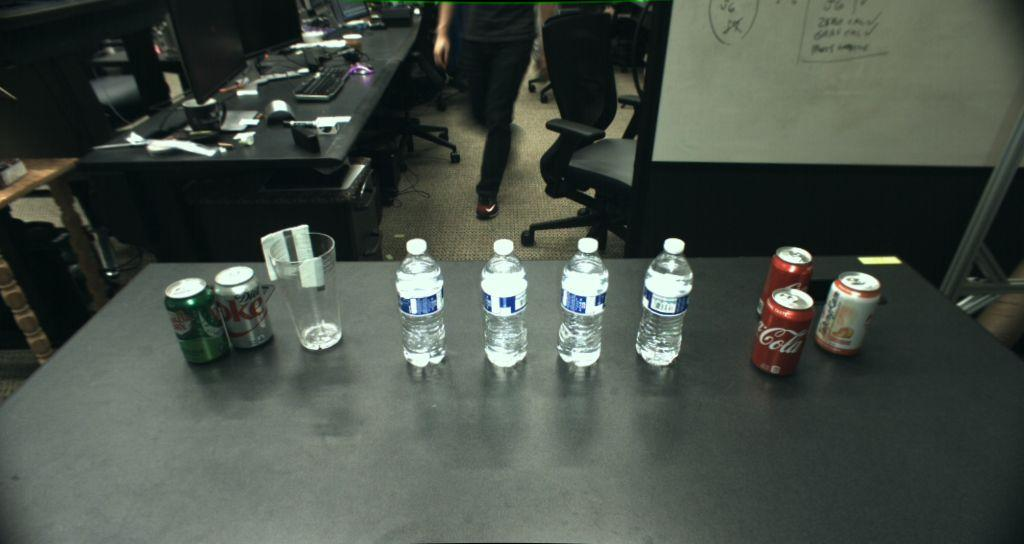can_coke: (751, 289, 814, 377)
can_diet_coke: (214, 265, 274, 350)
can_ginger_ale: (165, 277, 231, 365)
can_talking_rain_peach_nectarine: (815, 271, 881, 357)
water_bottle: (636, 237, 693, 365), (396, 238, 446, 367), (558, 237, 608, 366), (481, 239, 527, 367)
